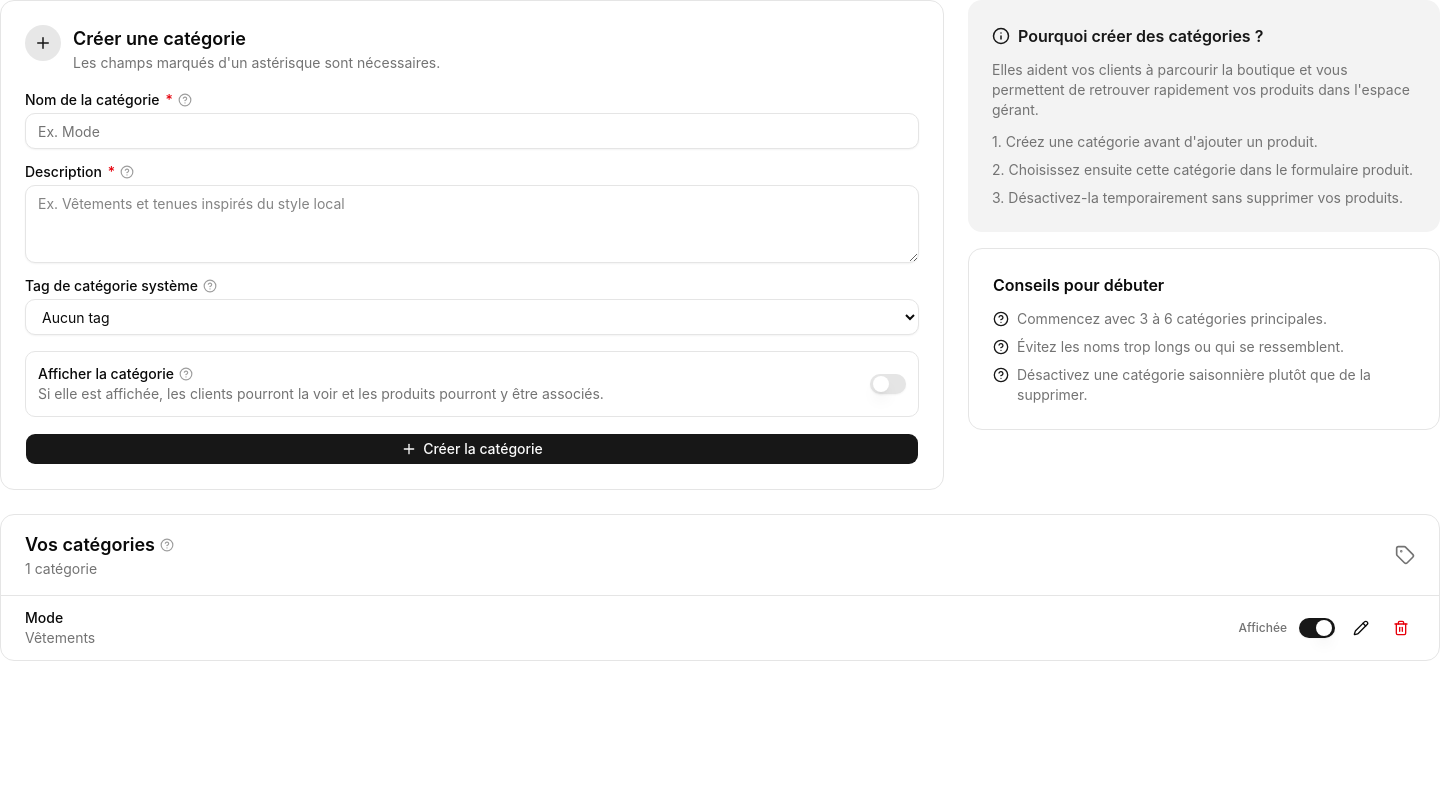
Test: CategoryManager › toggles a category to masquée when the update succeeds
Click the switch named "Masquer Mode". click: [1317, 628]
box: 1299,618 -> 1335,638
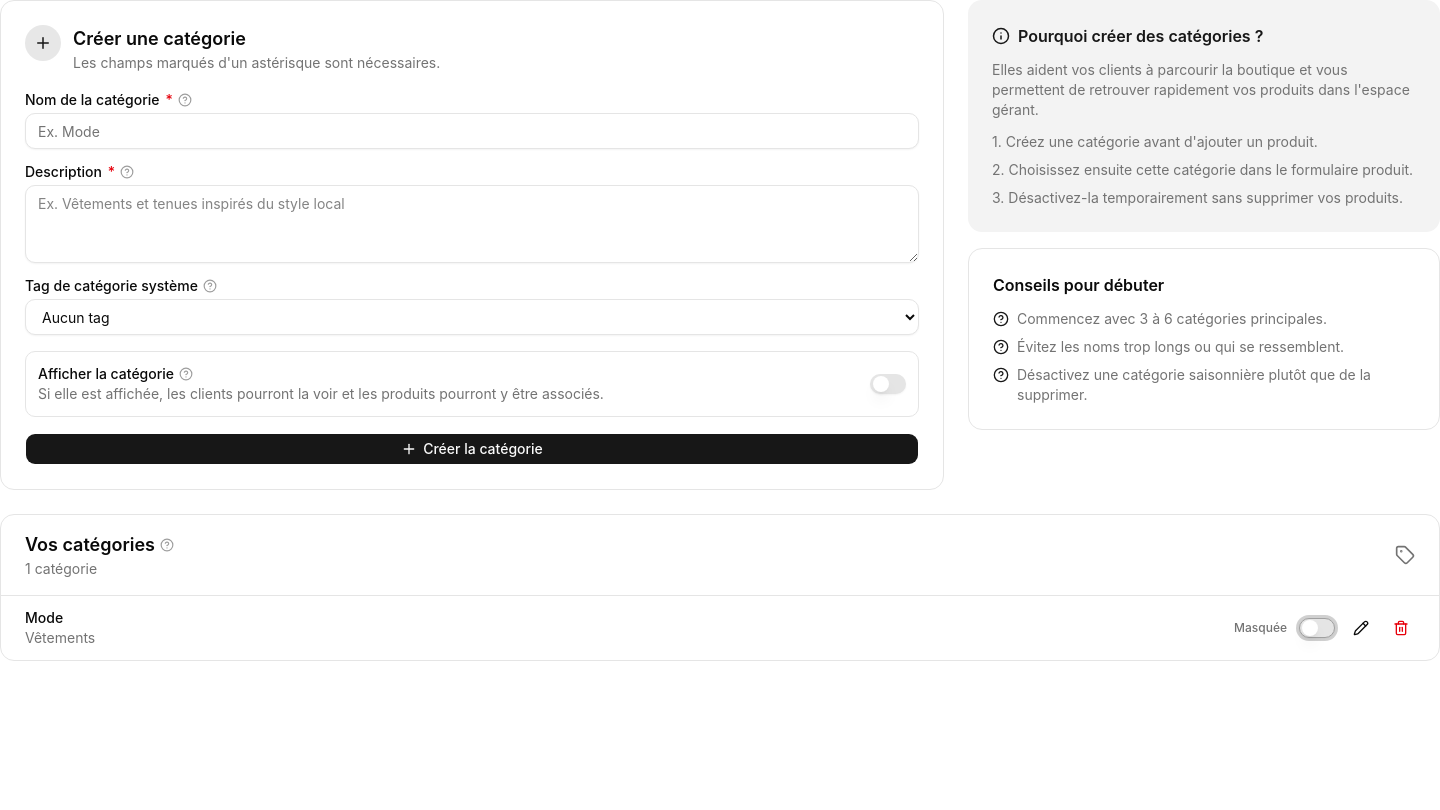
Check: the text "Masquée" is shown, box 1234,620 -> 1287,636
